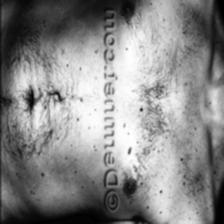Potentially Malignant Skin Tumors: (119, 125, 136, 163)
